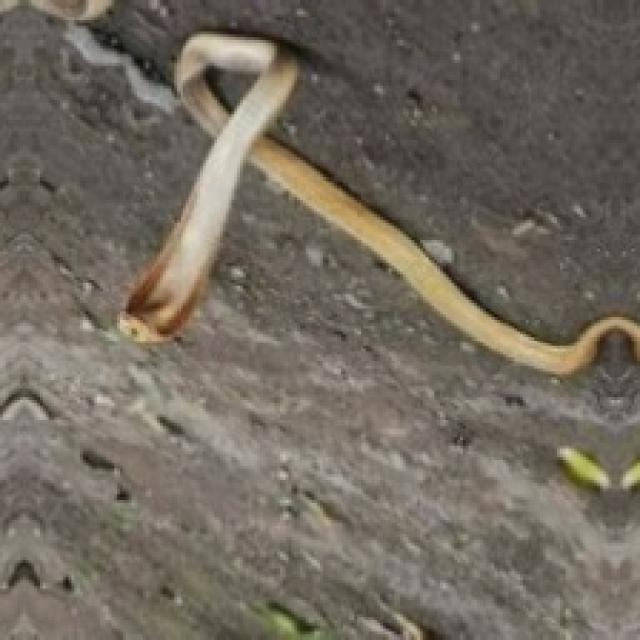philippine cobra: (117, 31, 637, 374)
